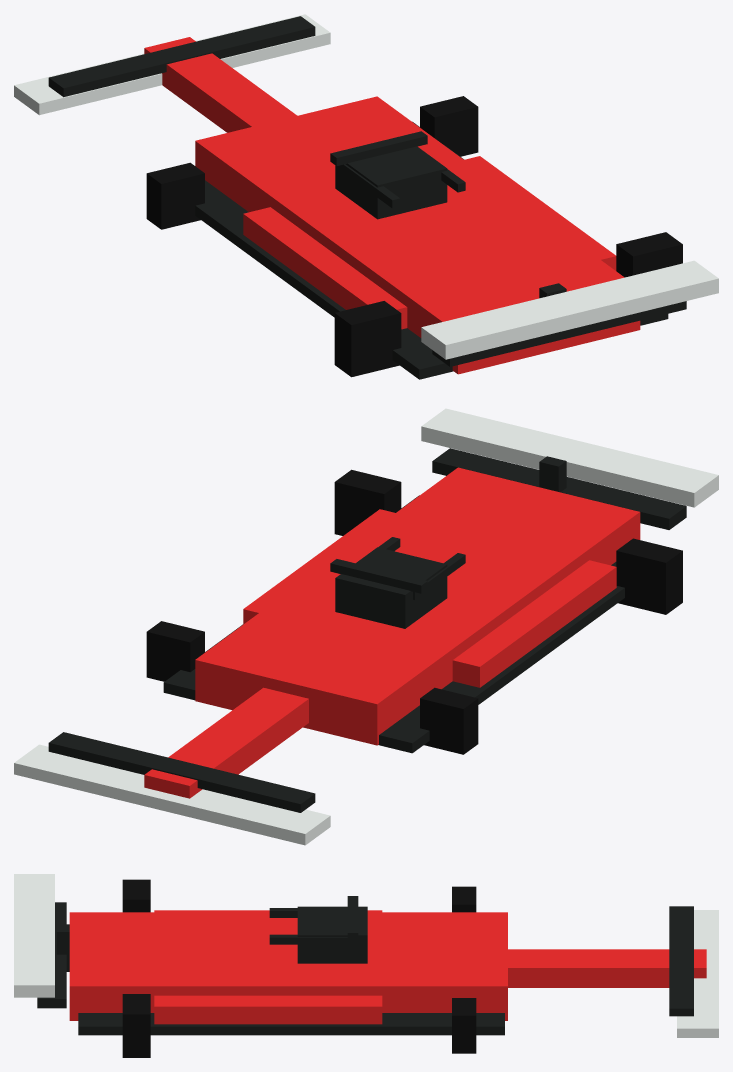
File: simple-f1.gltf
3 renders of one model, top to bottom at view 1: azimuth 30°, elevation 25°; view 2: azimuth 150°, elevation 25°; view 3: azimuth 270°, elevation 25°, orthographic. The views are drawn at different scales.
Parts seen in each view (by area): view 1: Chassis, RearWing, SidepodLeft, Nose, FrontWingFlap, Floor, Cockpit, FrontWing, WheelRL, WheelFL, WheelFR, SidepodRight (+4 smaller); view 2: Chassis, RearWing, FrontWing, Nose, SidepodLeft, FrontWingFlap, Cockpit, Floor, RearWingLower, WheelRL, WheelFL, WheelRR (+4 smaller); view 3: Chassis, SidepodRight, Nose, Floor, RearWing, Cockpit, FrontWing, FrontWingFlap, WheelRR, WheelFR, RearWingLower, WheelRL (+5 smaller).
Boxes of the visible parts, x1=… form: Chassis: x1=195, y1=96, x2=640, y2=374; RearWing: x1=421, y1=260, x2=718, y2=359; SidepodLeft: x1=243, y1=207, x2=407, y2=329; Nose: x1=144, y1=37, x2=297, y2=132; FrontWingFlap: x1=48, y1=16, x2=315, y2=97; Floor: x1=195, y1=121, x2=668, y2=379; Cockpit: x1=335, y1=146, x2=447, y2=219; FrontWing: x1=14, y1=14, x2=330, y2=115; WheelRL: x1=334, y1=301, x2=401, y2=377; WheelFL: x1=146, y1=162, x2=204, y2=229; WheelFR: x1=420, y1=96, x2=478, y2=156; SidepodRight: x1=464, y1=156, x2=616, y2=270; Chassis: x1=195, y1=467, x2=640, y2=745; RearWing: x1=421, y1=408, x2=718, y2=507; FrontWing: x1=14, y1=744, x2=330, y2=845; Nose: x1=144, y1=687, x2=308, y2=798; SidepodLeft: x1=452, y1=560, x2=616, y2=687; FrontWingFlap: x1=48, y1=732, x2=315, y2=812; Cockpit: x1=335, y1=547, x2=447, y2=628; Floor: x1=163, y1=495, x2=624, y2=753; RearWingLower: x1=432, y1=448, x2=686, y2=529; WheelRL: x1=616, y1=538, x2=682, y2=614; WheelFL: x1=420, y1=687, x2=478, y2=754; WheelRR: x1=334, y1=469, x2=401, y2=535; Chassis: x1=69, y1=912, x2=507, y2=1020; SidepodRight: x1=154, y1=995, x2=382, y2=1024; Nose: x1=508, y1=949, x2=706, y2=987; Floor: x1=78, y1=1013, x2=504, y2=1035; RearWing: x1=14, y1=874, x2=54, y2=997; Cockpit: x1=297, y1=906, x2=367, y2=963; FrontWing: x1=677, y1=910, x2=718, y2=1037; FrontWingFlap: x1=669, y1=906, x2=693, y2=1016; WheelRR: x1=122, y1=994, x2=150, y2=1057; WheelFR: x1=452, y1=998, x2=476, y2=1053; RearWingLower: x1=37, y1=902, x2=66, y2=1008; WheelRL: x1=122, y1=879, x2=150, y2=912.
Bounding box in the file's own units: 5.46 × 1.44 × 12.06.
